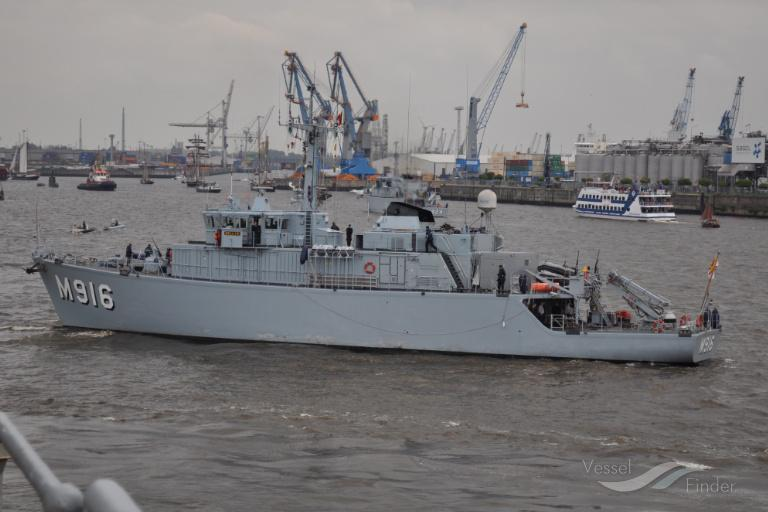OCR: (46, 267, 122, 319)
